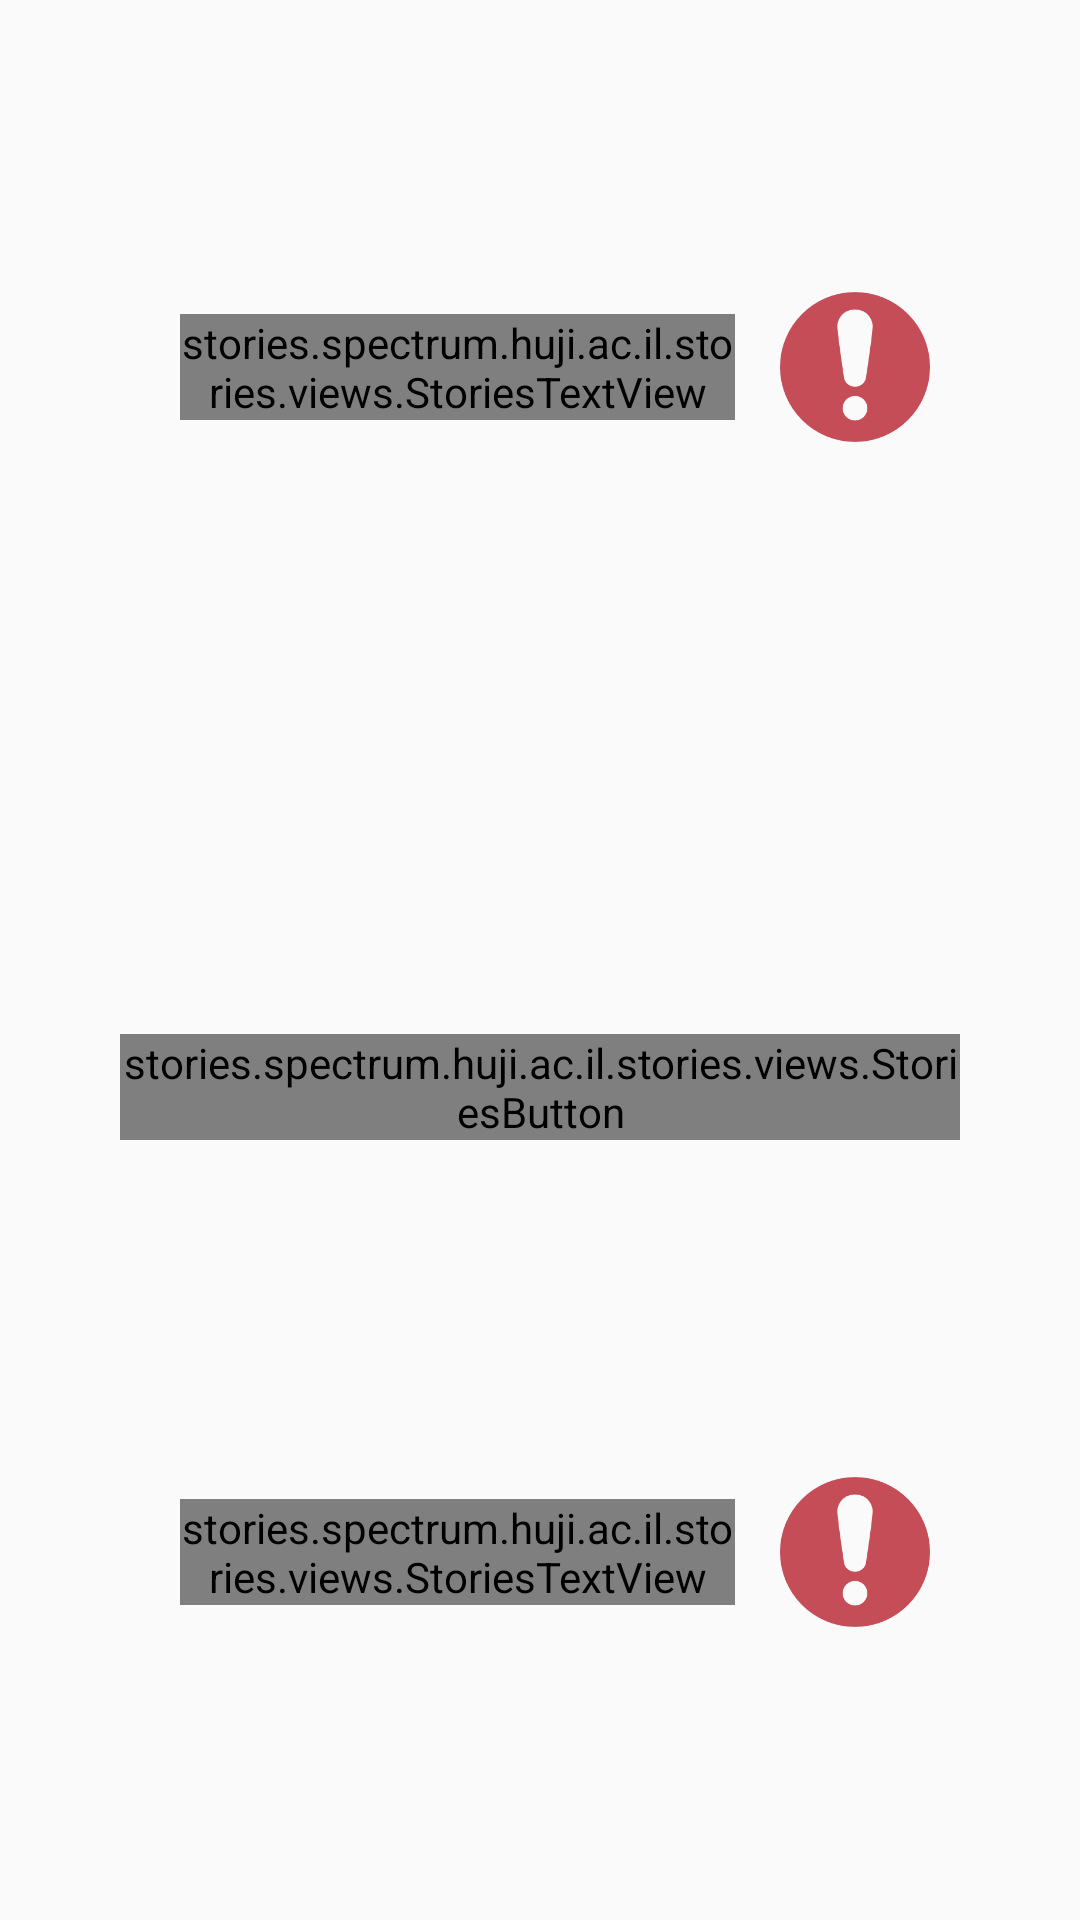

Icons on this 1080*1920 Android screen, each with its box as (x1, y1, x2, y2):
exclamation mark: (780, 292, 930, 442), (780, 1477, 930, 1627)
